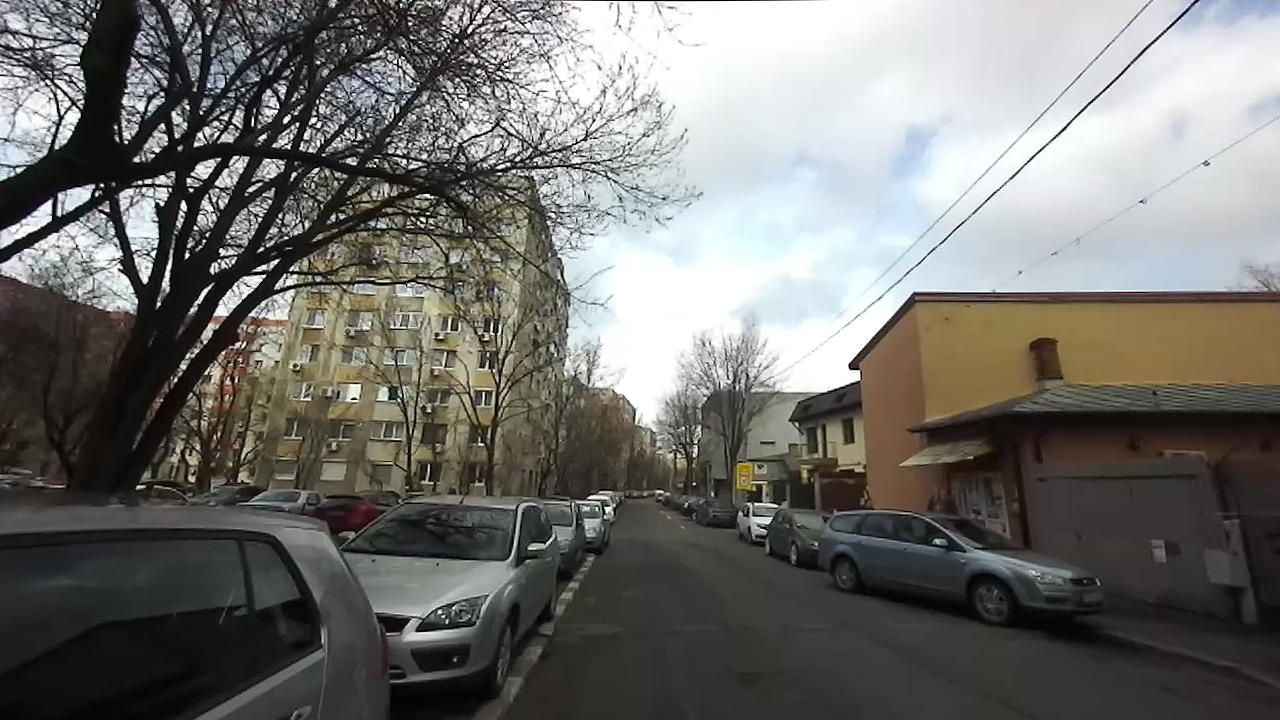pothole: (728, 662, 792, 694)
